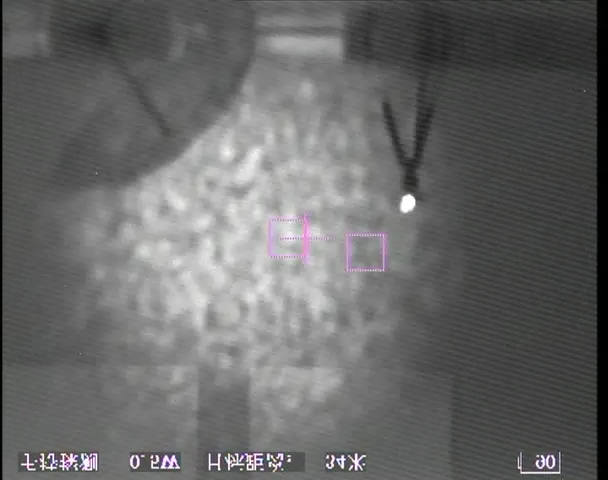my: (397, 193, 417, 214)
